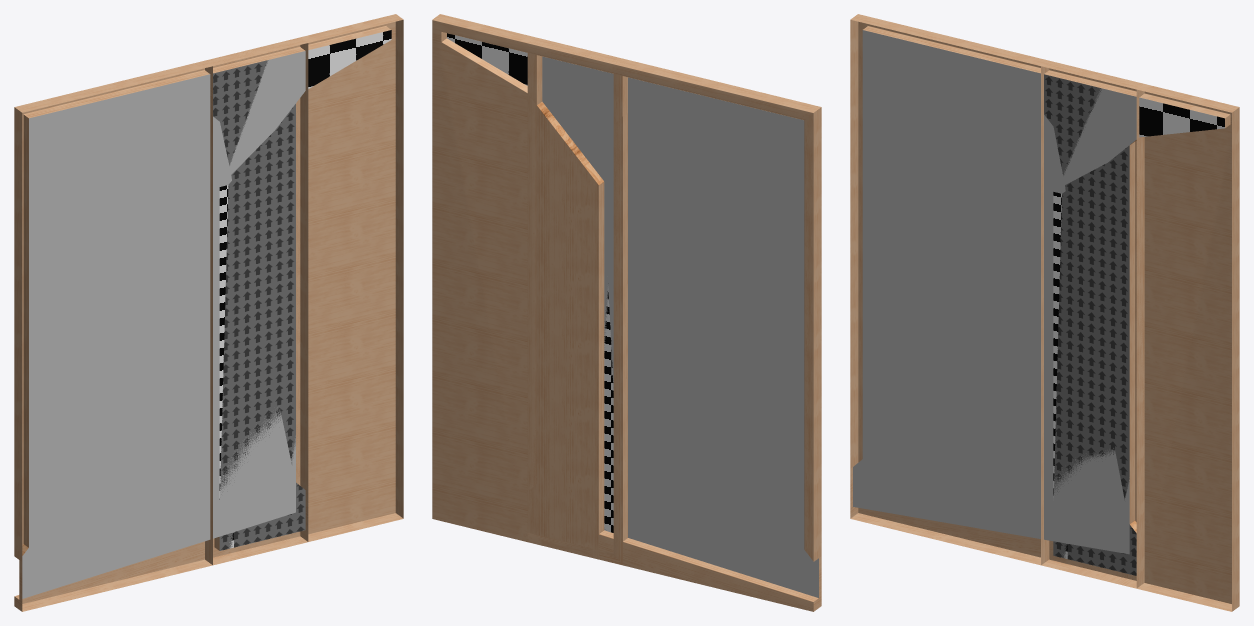
The model's file is Courses.fbx.
3 views of the same model, side by side, from view 1: azimuth 30°, elevation 25°; view 2: azimuth 150°, elevation 25°; view 3: azimuth 330°, elevation 25° (orthographic).
Parts seen in each view (by area): view 1: CourseTemplate_CF, Spawn_CF, Elevator_CF, Finish_CF; view 2: CourseTemplate_CF, Spawn_CF, Finish_CF, Elevator_CF; view 3: CourseTemplate_CF, Spawn_CF, Elevator_CF, Finish_CF.
Part boxes in pixels (box(x1,y1,x2,y2)): CourseTemplate_CF: box(14, 39, 307, 611); Spawn_CF: box(300, 14, 403, 541); Elevator_CF: box(205, 37, 308, 565); Finish_CF: box(208, 42, 306, 558); CourseTemplate_CF: box(527, 37, 821, 611); Spawn_CF: box(432, 14, 534, 541); Finish_CF: box(527, 42, 627, 565); Elevator_CF: box(527, 41, 627, 564); CourseTemplate_CF: box(850, 14, 1144, 586); Spawn_CF: box(1136, 84, 1239, 611); Elevator_CF: box(1042, 60, 1143, 575); Finish_CF: box(1041, 61, 1144, 588).
Bounding box in the file's own units: 200 × 250 × 7.25.
